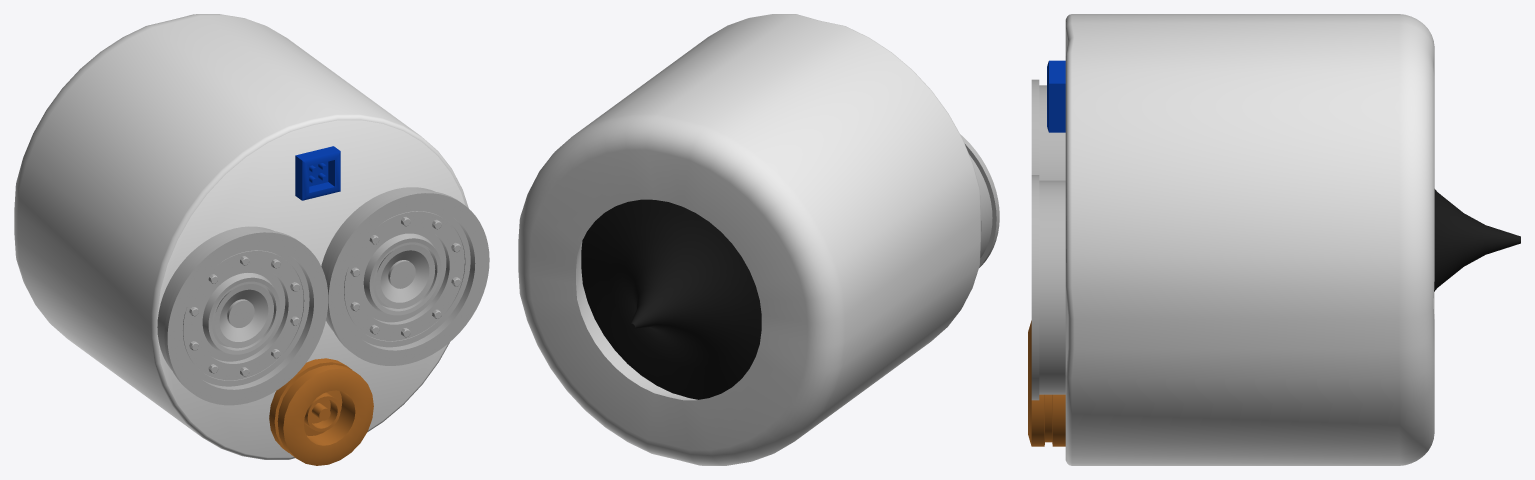
Rendered from SmallThruster.gltf.
3 views of the same model, side by side, from view 1: azimuth 30°, elevation 25°; view 2: azimuth 150°, elevation 25°; view 3: azimuth 270°, elevation 25° (orthographic). The views are drawn at different scales.
Visible parts, largest first — view 1: base; view 2: base, spike; view 3: base, spike.
Part boxes in pixels (x1,y1,x2,y2): base: [14, 14, 489, 465]; base: [518, 14, 999, 465]; spike: [581, 199, 761, 399]; base: [1028, 14, 1434, 465]; spike: [1434, 189, 1520, 291].
Bounding box in the file's own units: 0.4998 × 0.495 × 0.5454.
